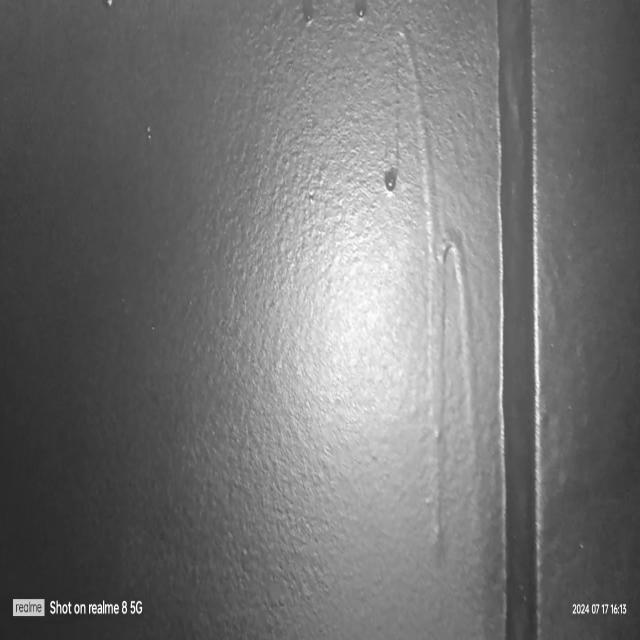paint drips: (379, 0, 502, 640), (344, 0, 378, 48), (290, 0, 318, 41)
